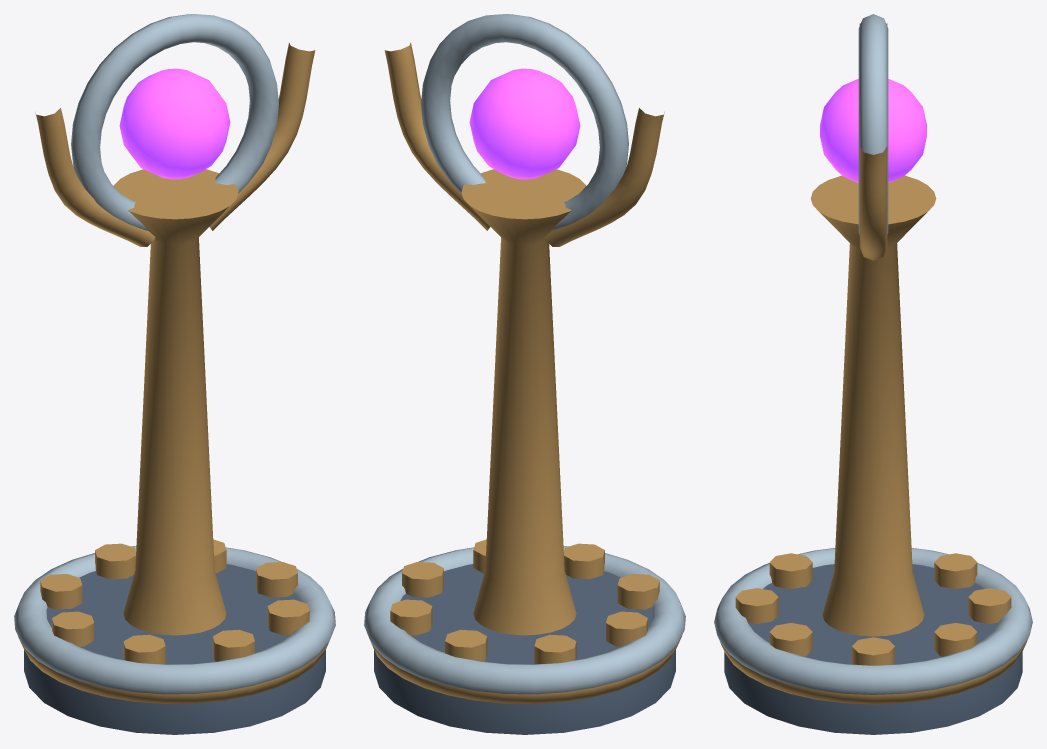
The model's file is moonsteel-convergence-watchers-eye-a0319472__18198.glb.
3 renders of one model, left to right at view 1: azimuth 30°, elevation 25°; view 2: azimuth 150°, elevation 25°; view 3: azimuth 270°, elevation 25°, orthographic.
Parts seen in each view (by area): view 1: watchers-eye; view 2: watchers-eye; view 3: watchers-eye.
Part boxes in pixels (bbox=[...]): watchers-eye: bbox=[14, 14, 335, 734]; watchers-eye: bbox=[364, 14, 685, 734]; watchers-eye: bbox=[714, 14, 1032, 734].
Bounding box in the file's own units: 0.8119 × 1.82 × 0.8119.
